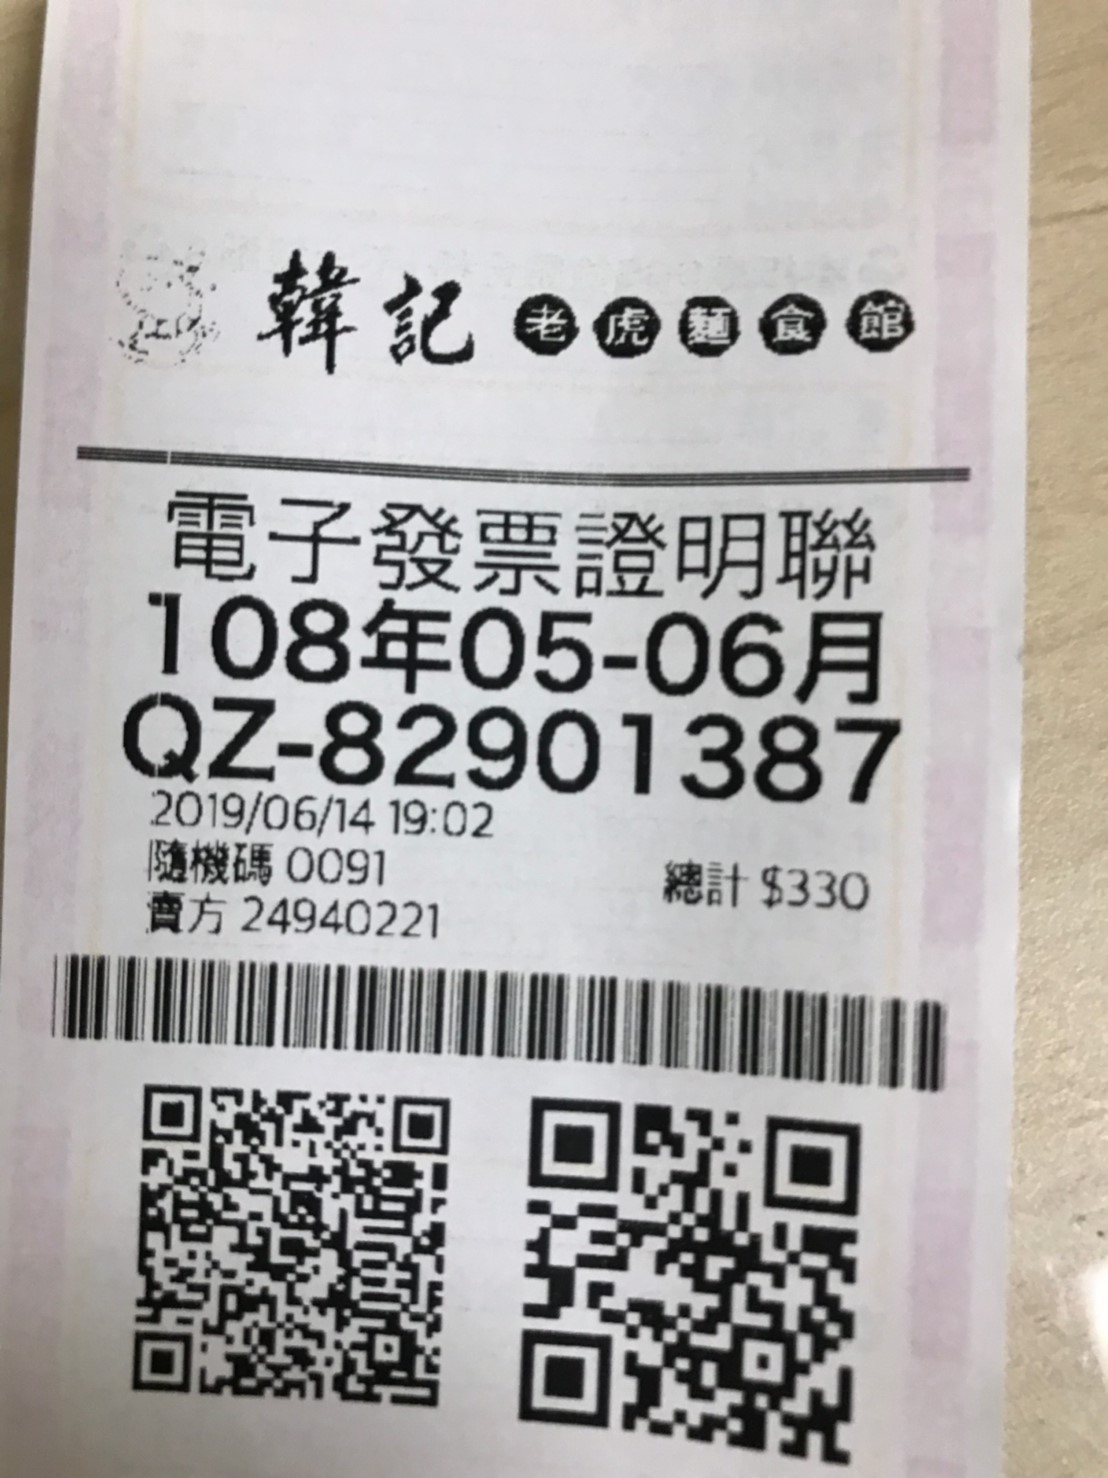Date_New: (138, 585, 887, 713)
Number_New: (318, 696, 905, 812)
